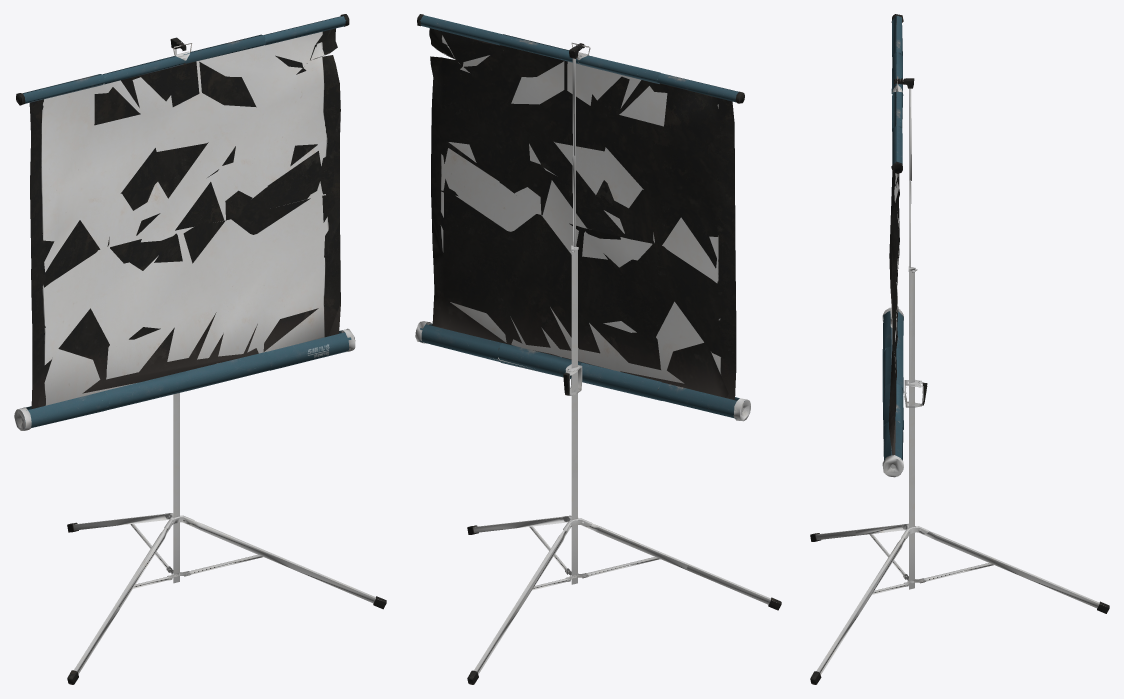
File: projector_screen.fbx
3 views of the same model, side by side, from view 1: azimuth 30°, elevation 25°; view 2: azimuth 150°, elevation 25°; view 3: azimuth 270°, elevation 25° (orthographic). The views are drawn at different scales.
Parts seen in each view (by area): view 1: projector_screen, projector_screen_frame; view 2: projector_screen, projector_screen_frame; view 3: projector_screen, projector_screen_frame.
Part boxes in pixels (<box>): projector_screen: <box>14,14,355,430</box>; projector_screen_frame: <box>67,393,386,684</box>; projector_screen: <box>415,14,750,421</box>; projector_screen_frame: <box>467,245,781,684</box>; projector_screen: <box>882,14,927,477</box>; projector_screen_frame: <box>810,266,1109,684</box>.
Bounding box in the file's own units: 109 × 180 × 91.58.
2 materials, 2 textured.
